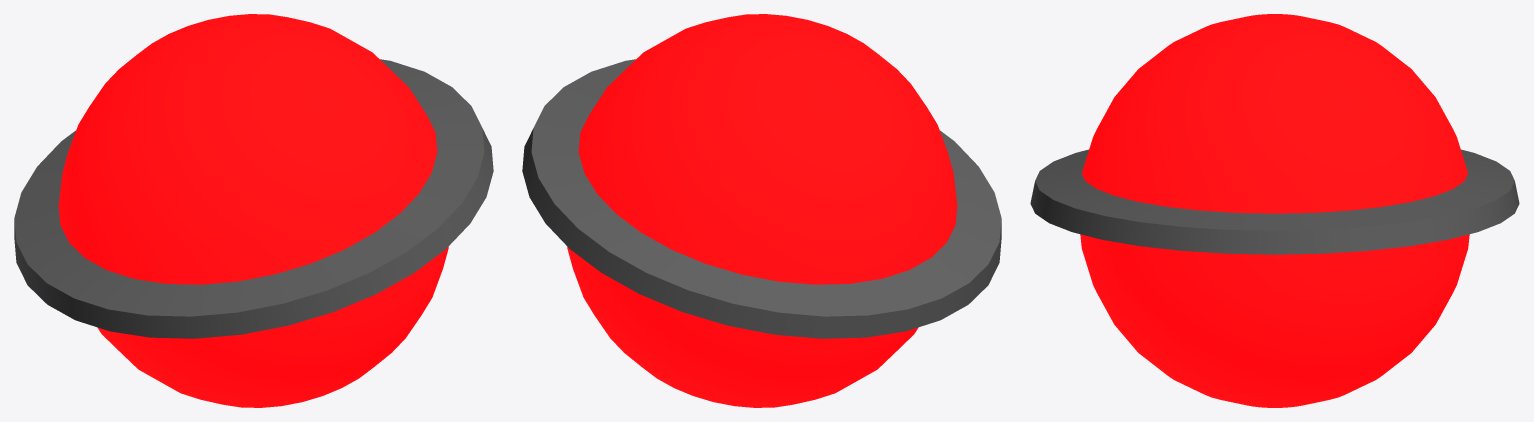
The model's file is LuzDer.fbx.
3 views of the same model, side by side, from view 1: azimuth 30°, elevation 25°; view 2: azimuth 150°, elevation 25°; view 3: azimuth 270°, elevation 25° (orthographic).
Visible parts, largest first — view 1: Sphere.001; view 2: Sphere.001; view 3: Sphere.001.
Boxes of the visible parts, x1,y1,x2,y2 form: Sphere.001: (14,14,493,407); Sphere.001: (522,14,1001,407); Sphere.001: (1030,14,1519,407).
Bounding box in the file's own units: 2.7 × 2.23 × 2.77.
